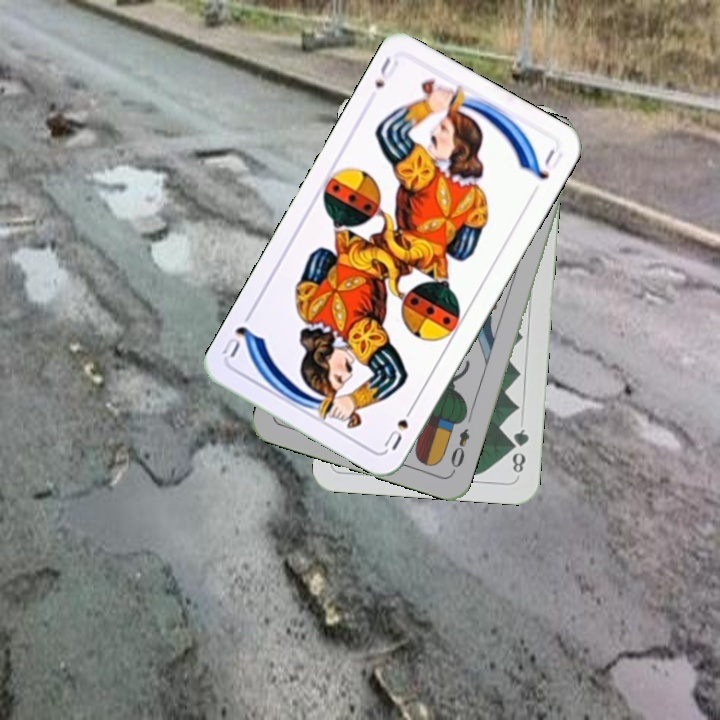EO: (446, 424, 473, 475)
G8: (507, 425, 532, 476)
SU: (380, 399, 418, 453), (371, 53, 402, 91)
